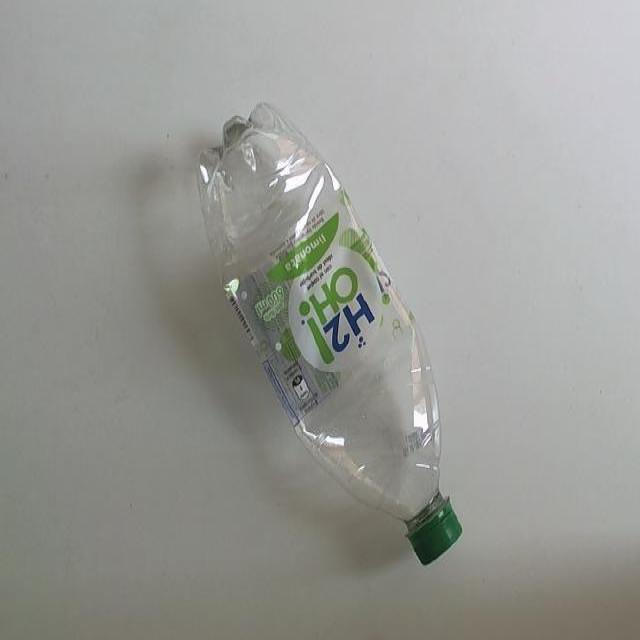defect: (194, 96, 465, 571)
